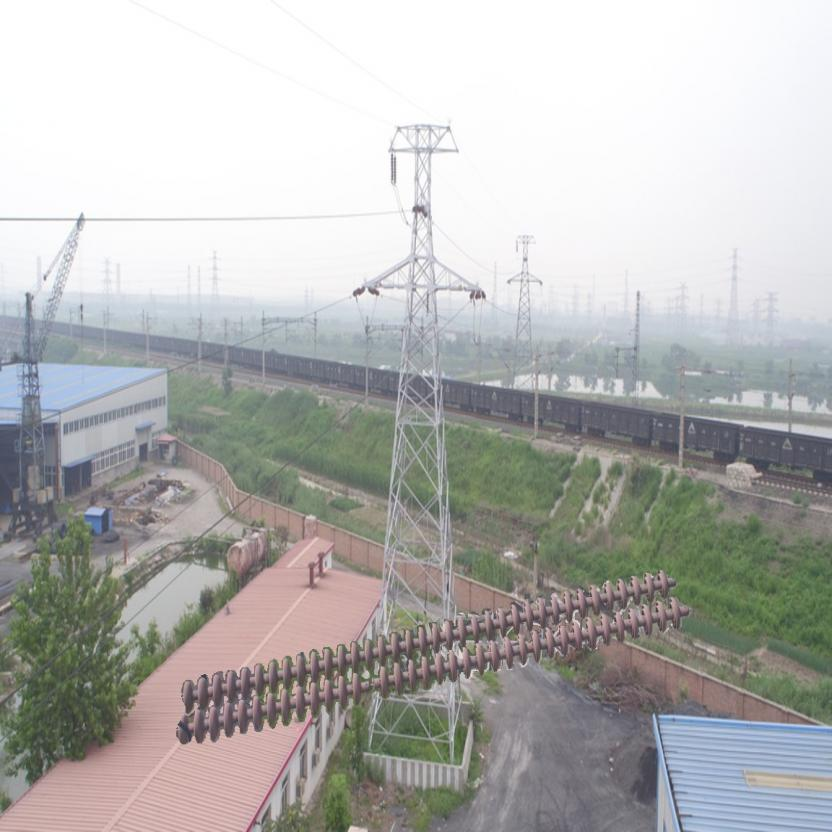defect: (346, 659, 392, 705)
